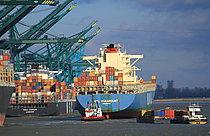Ship: (71, 41, 160, 118)
